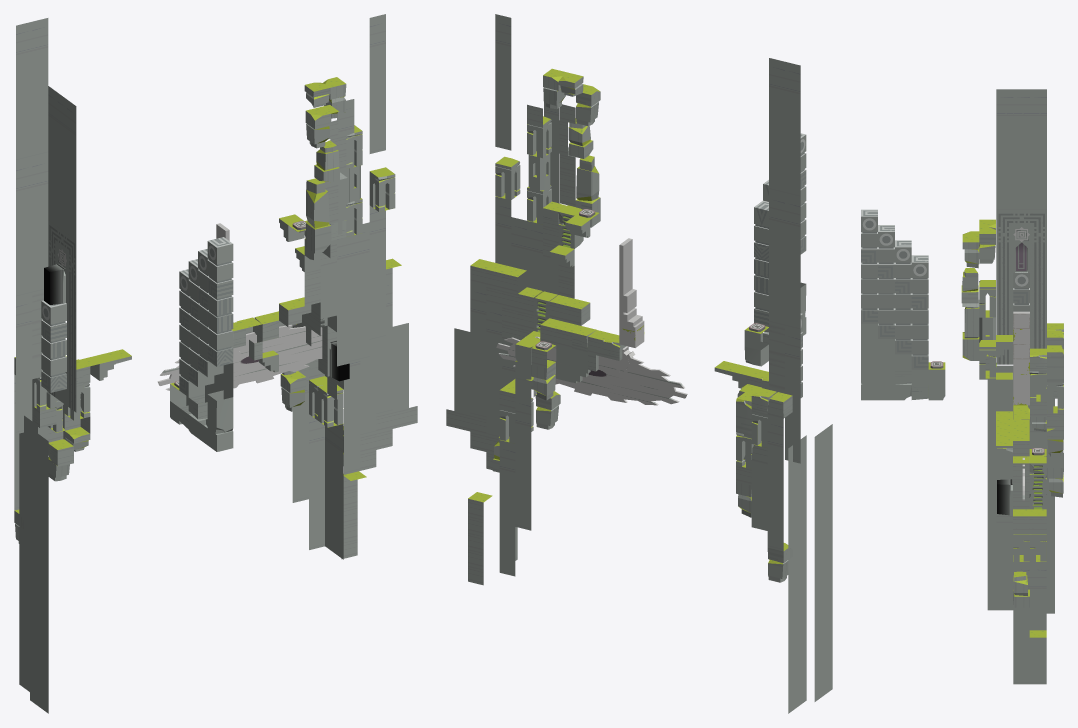
Rendered from Chunk_Bridge.fbx.
3 renders of one model, left to right at view 1: azimuth 30°, elevation 25°; view 2: azimuth 150°, elevation 25°; view 3: azimuth 270°, elevation 25°, orthographic. The views are drawn at different scales.
Visible parts, largest first — view 1: _Combined_VisChild_Crush_Mat (×2), _Combined_VisChild_DeadTotem_Crush (×2), Cog, Crush_UnitQuad_Grass; view 2: _Combined_VisChild_Crush_Mat (×3), Cog, _Combined_VisChild_DeadTotem_Crush, Crush_UnitQuad_Grass; view 3: _Combined_VisChild_Crush_Mat (×3), _Combined_VisChild_DeadTotem_Crush (×2), DoorsEStatic.
Part boxes in pixels (bbox=[...]): _Combined_VisChild_Crush_Mat (×2): bbox=[14, 18, 417, 713]; _Combined_VisChild_DeadTotem_Crush (×2): bbox=[41, 237, 233, 396]; Cog: bbox=[157, 324, 322, 390]; Crush_UnitQuad_Grass: bbox=[369, 14, 385, 153]; _Combined_VisChild_Crush_Mat (×3): bbox=[446, 58, 832, 713]; Cog: bbox=[496, 336, 687, 405]; _Combined_VisChild_DeadTotem_Crush: bbox=[754, 133, 806, 326]; Crush_UnitQuad_Grass: bbox=[495, 14, 511, 150]; _Combined_VisChild_Crush_Mat (×3): bbox=[861, 89, 1063, 684]; _Combined_VisChild_DeadTotem_Crush (×2): bbox=[861, 209, 1029, 369]; DoorsEStatic: bbox=[1015, 242, 1027, 271].
Size of the model in its own units: 23.52 by 39 by 12.02.
Materials: 6 (6 with a texture image).
